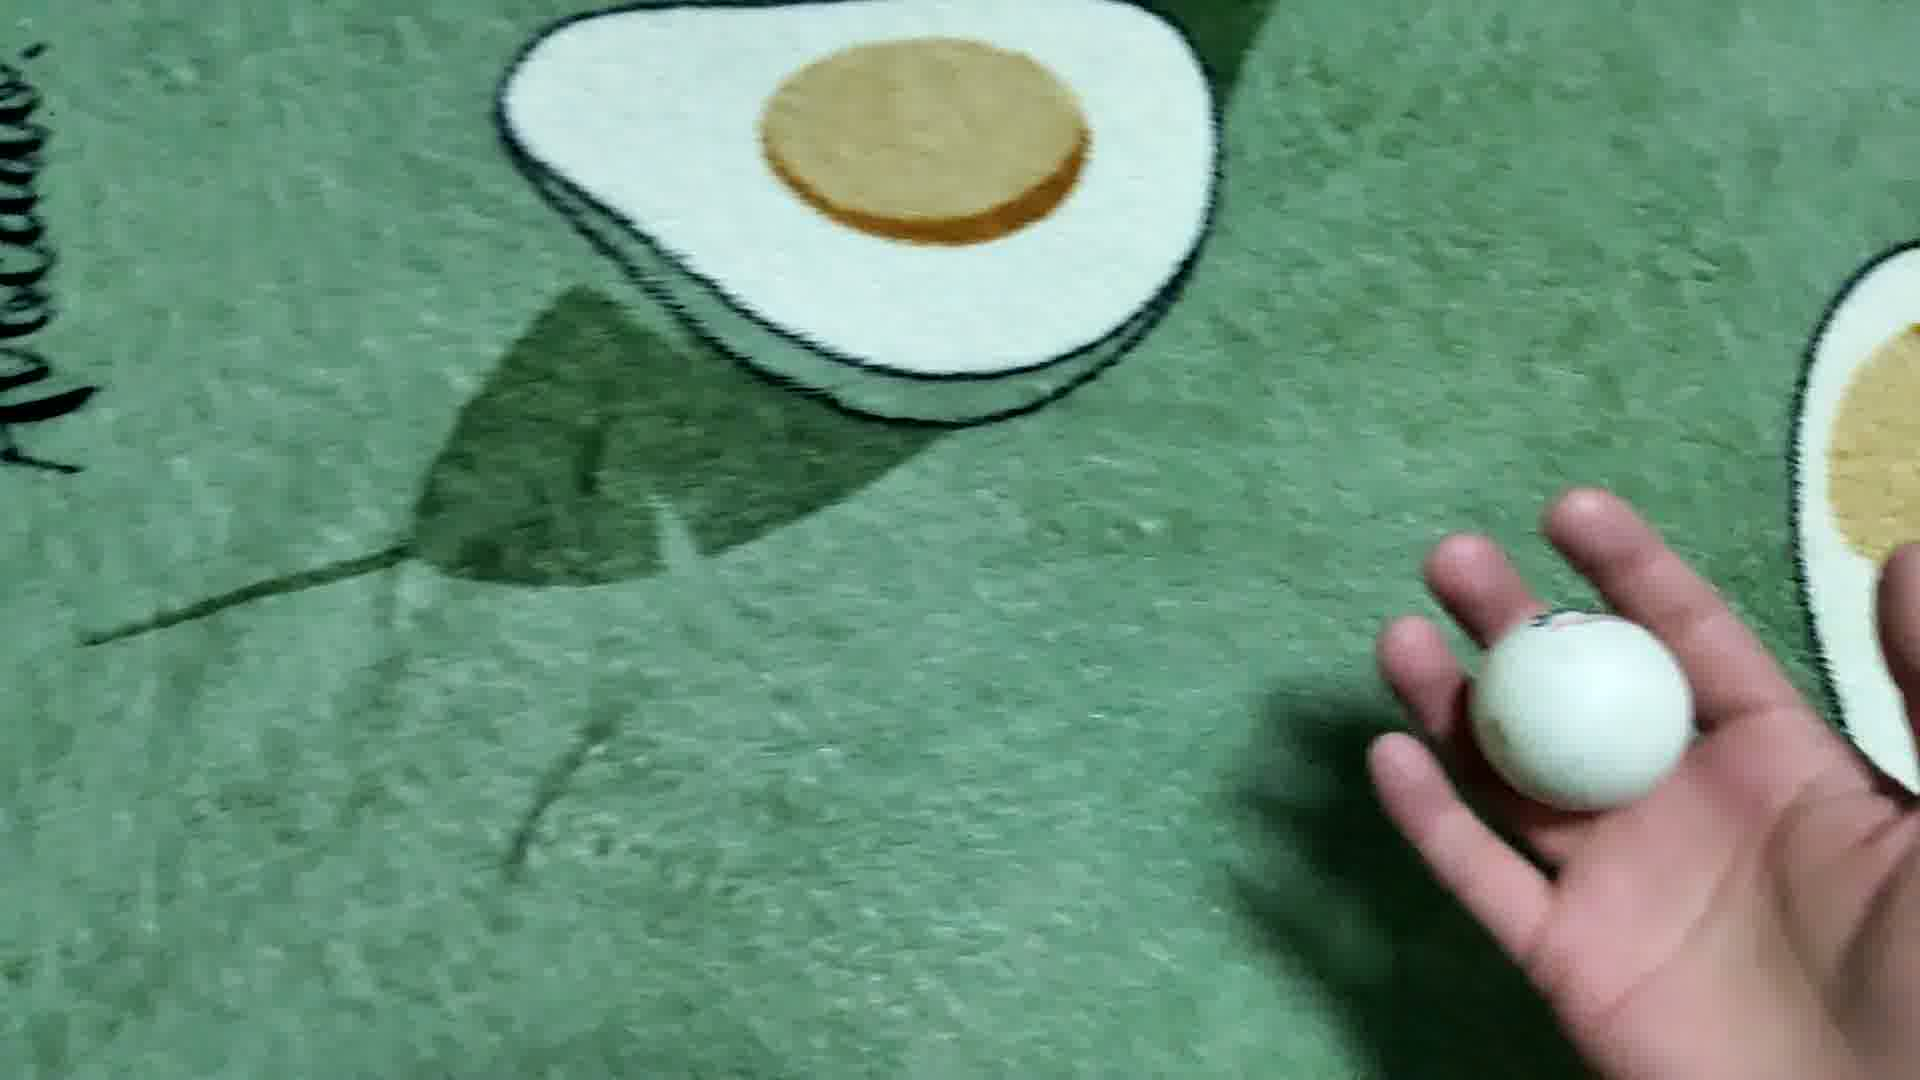Ball: (1472, 607, 1693, 811)
